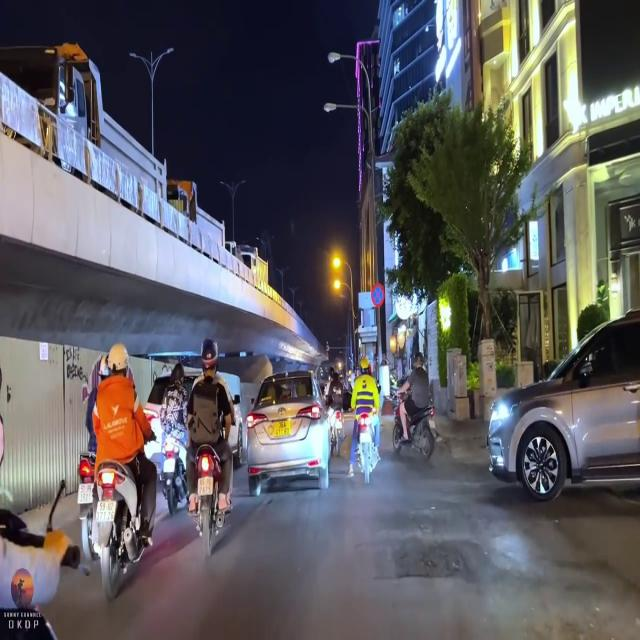bien_trang: (94, 497, 116, 525), (76, 480, 96, 506), (197, 477, 213, 498)
bien_vang: (272, 420, 290, 441)
